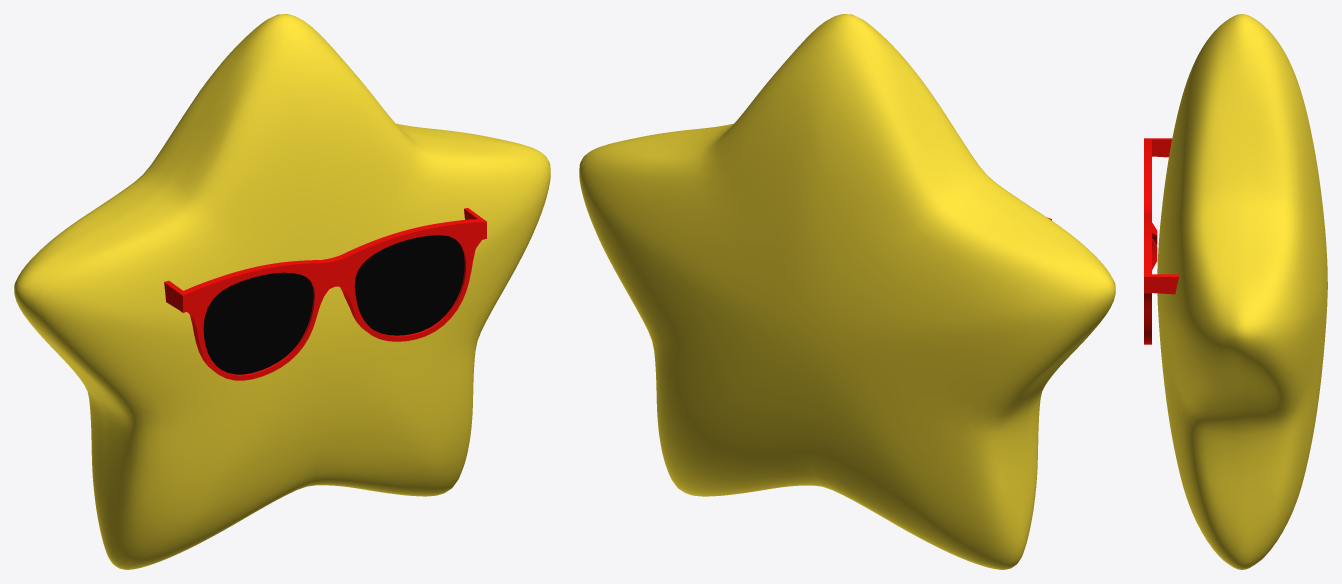
The model's file is Star.fbx.
3 views of the same model, side by side, from view 1: azimuth 30°, elevation 25°; view 2: azimuth 150°, elevation 25°; view 3: azimuth 270°, elevation 25° (orthographic). The views are drawn at different scales.
Parts seen in each view (by area): view 1: star; view 2: star; view 3: star.
Part boxes in pixels (x1,y1,x2,y2): star: [14, 14, 550, 569]; star: [579, 14, 1115, 569]; star: [1144, 14, 1327, 569].
Size of the model in its own units: 22.79 by 21.13 by 7.31.
